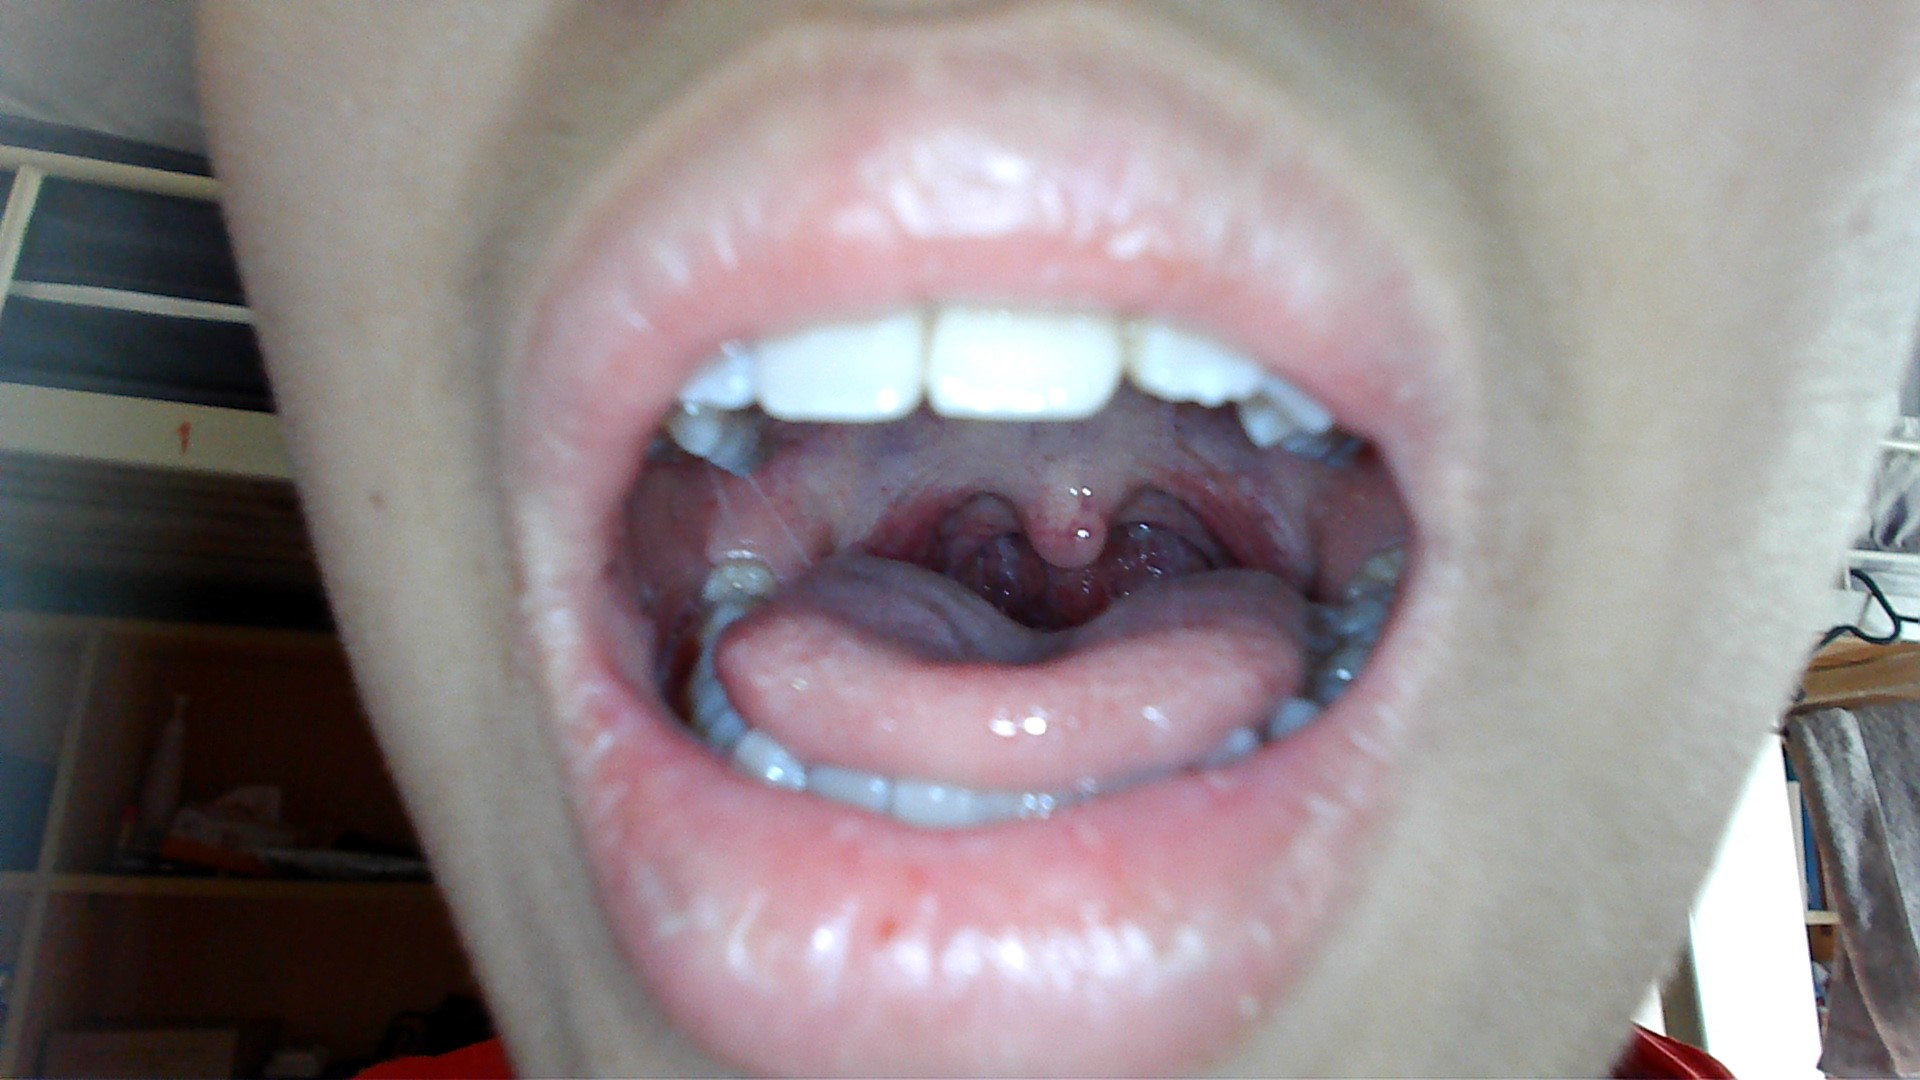throat: (1154, 460, 1266, 572), (851, 476, 975, 560)
